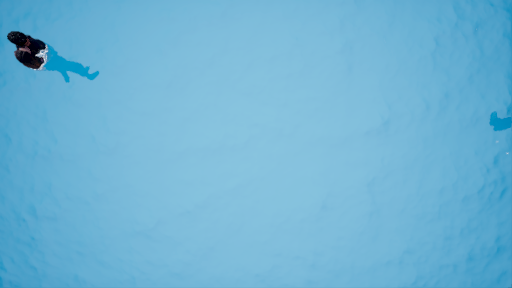person: (7, 31, 98, 86)
